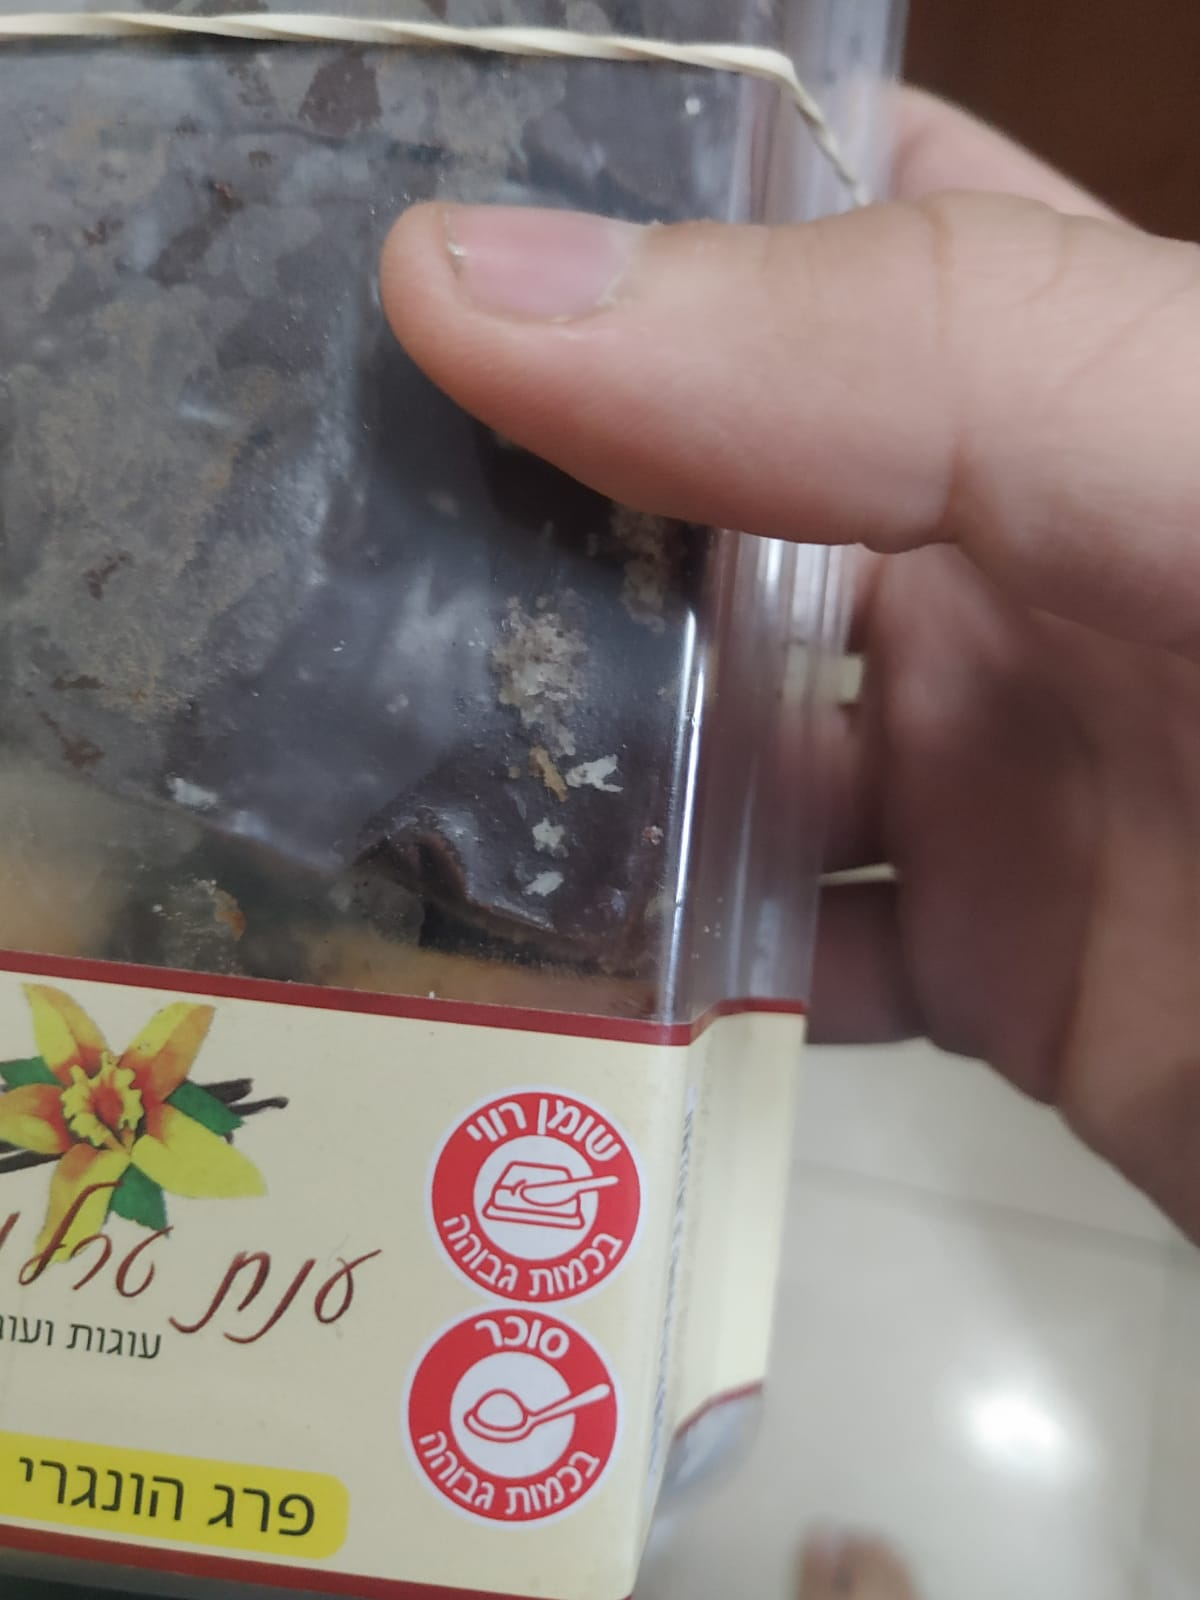fat: (427, 1086, 644, 1303)
sugar: (405, 1313, 626, 1526)
